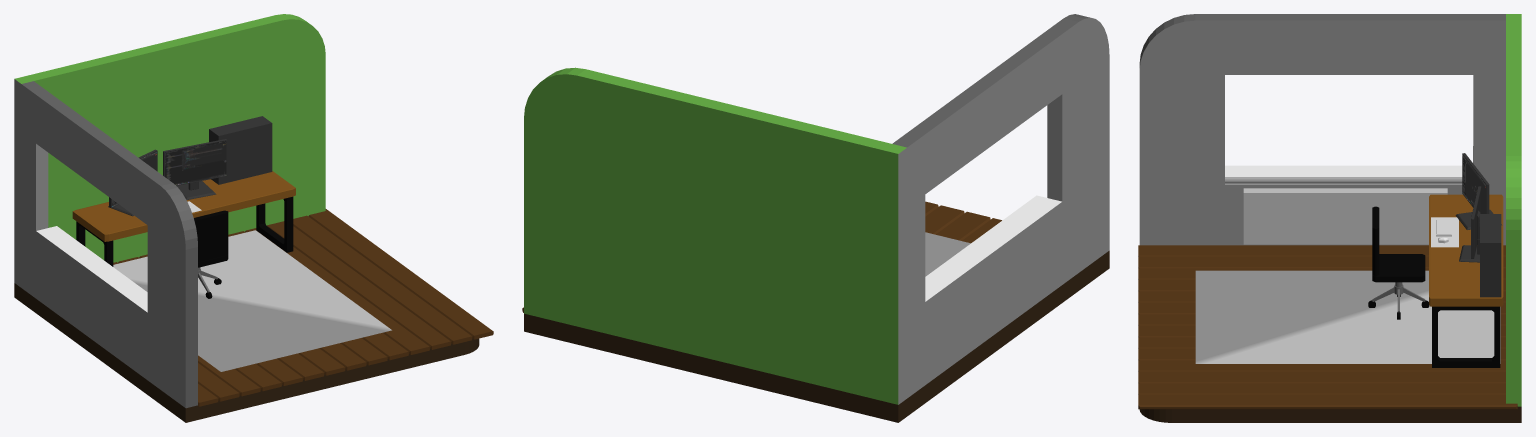
The model's file is newroom.glb.
3 renders of one model, left to right at view 1: azimuth 30°, elevation 25°; view 2: azimuth 150°, elevation 25°; view 3: azimuth 270°, elevation 25°, orthographic. The views are drawn at different scales.
Visible parts, largest first — view 1: Walls, Floor, Plane.002, Bottom, Table, Cube.003, Cube.008, Seat, Cube.001, Cube.002; view 2: Walls, Bottom, Floor, Plane.002; view 3: Walls, Floor, Plane.002, Radiator, Bottom, Table, Seat, Cube.003, Cube.001, Cube.013, Cube.008, Plane (+1 smaller).
Part boxes in pixels (x1,y1,x2,y2): Walls: (14, 14, 325, 408); Floor: (113, 209, 493, 406); Plane.002: (113, 230, 391, 371); Bottom: (14, 283, 479, 422); Table: (72, 171, 295, 241); Cube.003: (209, 116, 272, 184); Cube.008: (163, 139, 227, 199); Seat: (194, 210, 228, 267); Cube.001: (256, 196, 293, 252); Cube.002: (76, 221, 113, 266); Walls: (524, 14, 1109, 404); Bottom: (524, 250, 1109, 422); Floor: (522, 201, 1001, 312); Plane.002: (925, 232, 970, 276); Walls: (1139, 14, 1521, 406); Floor: (1138, 245, 1517, 409); Plane.002: (1195, 270, 1500, 363); Radiator: (1243, 188, 1447, 244); Bottom: (1139, 406, 1521, 422); Table: (1429, 194, 1503, 306); Seat: (1372, 206, 1425, 282); Cube.003: (1480, 214, 1501, 297); Cube.001: (1432, 306, 1500, 367); Cube.013: (1455, 153, 1501, 229); Cube.008: (1459, 186, 1481, 262); Plane: (1431, 217, 1458, 247).
Size of the model in its own units: 2.6 by 1.76 by 2.52.
2 materials, 2 textured.
